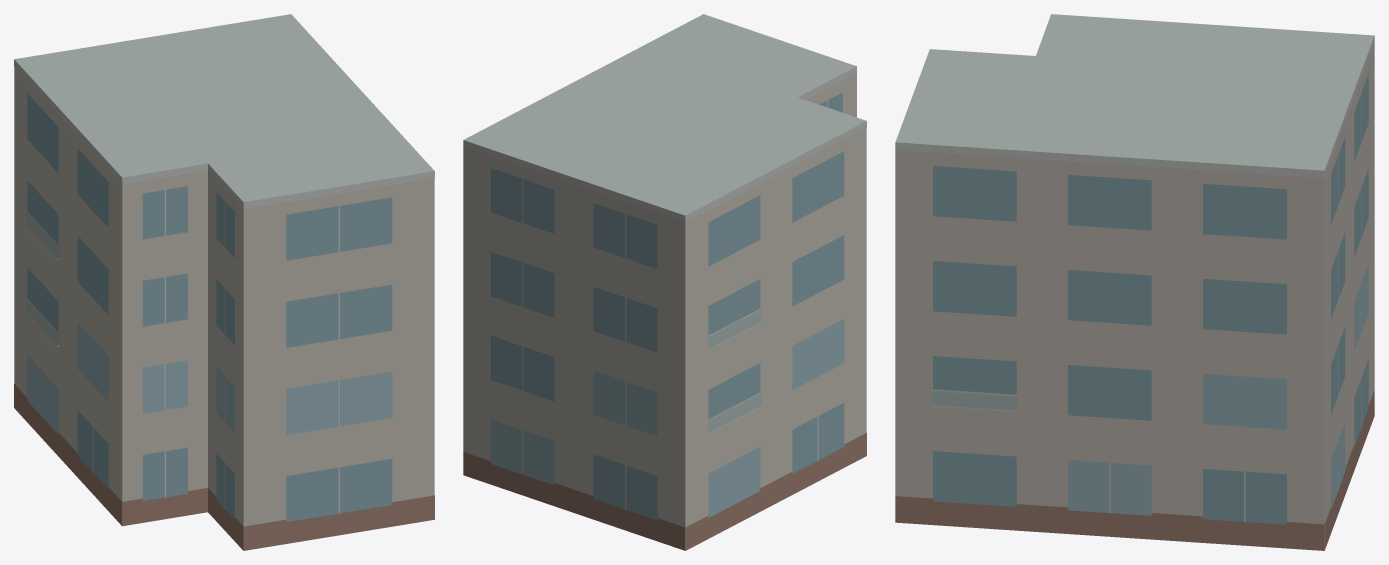
Rendered from residential-6c216648-63ee-4025-8894-8bbb7410a9b8.glb.
The picture shows the model from 3 angles, left to right: view 1: azimuth 30°, elevation 25°; view 2: azimuth 150°, elevation 25°; view 3: azimuth 270°, elevation 25°; orthographic projection. The views are drawn at different scales.
Parts seen in each view (by area): view 1: residential-6c216648-63ee-4025-8894-8bbb7410a9b8.tmp; view 2: residential-6c216648-63ee-4025-8894-8bbb7410a9b8.tmp; view 3: residential-6c216648-63ee-4025-8894-8bbb7410a9b8.tmp.
Boxes of the visible parts, bbox=[...] form: residential-6c216648-63ee-4025-8894-8bbb7410a9b8.tmp: bbox=[14, 14, 434, 550]; residential-6c216648-63ee-4025-8894-8bbb7410a9b8.tmp: bbox=[463, 14, 866, 550]; residential-6c216648-63ee-4025-8894-8bbb7410a9b8.tmp: bbox=[895, 14, 1374, 550].
Size of the model in its own units: 10.79 by 12.2 by 13.95.
